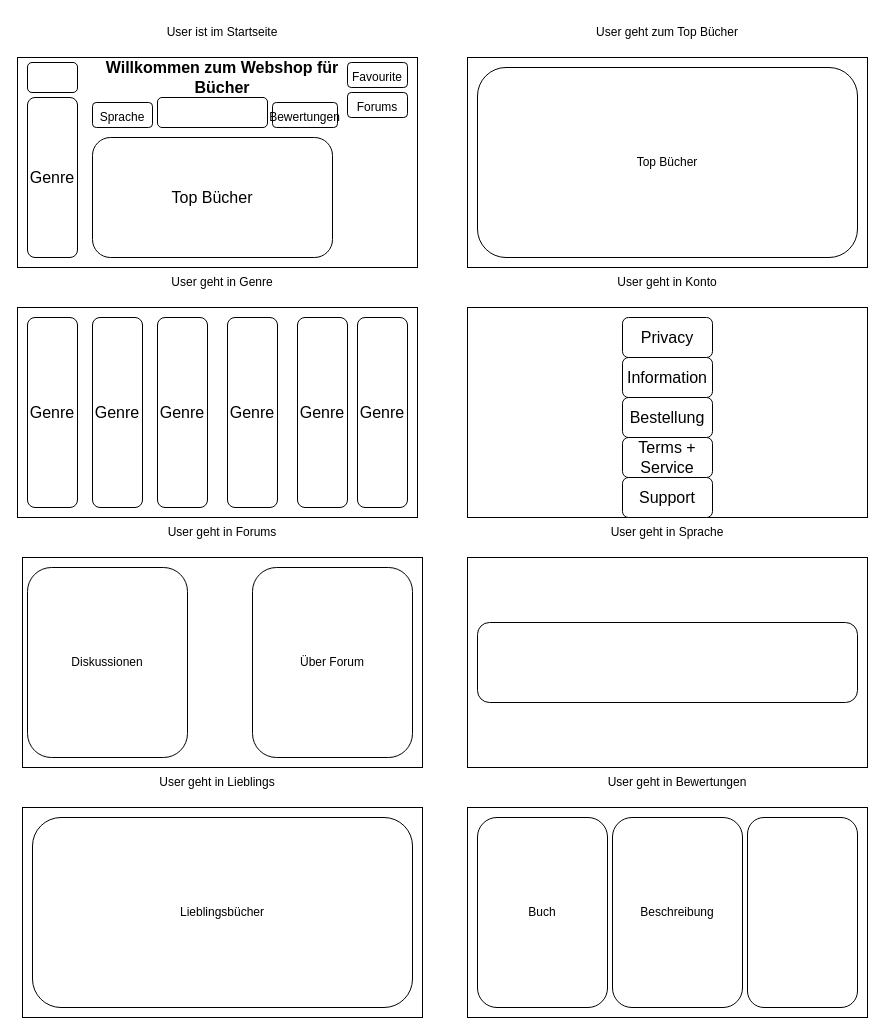
Image size: 885x1035. Some labels were removed from this diagram. The centre of each missing label's shape, as x and y in pixels:
"Kommentar / Likes / Dislikes" goes at (802,912).
"Konto" goes at (52,77).
"Sprache wechseln" goes at (667,662).
"Suchleiste" goes at (212,112).
